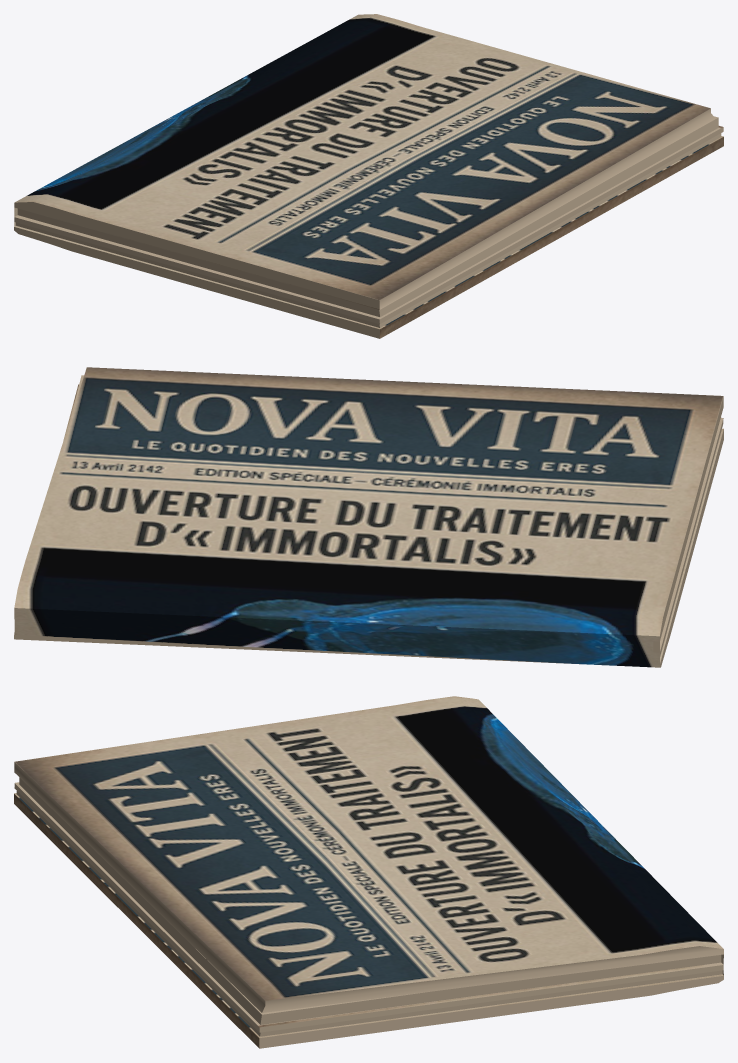
The model's file is Journal_lit.fbx.
3 renders of one model, top to bottom at view 1: azimuth 30°, elevation 25°; view 2: azimuth 150°, elevation 25°; view 3: azimuth 270°, elevation 25°, orthographic. The views are drawn at different scales.
Visible parts, largest first — view 1: journal_2; view 2: journal_2; view 3: journal_2.
Part boxes in pixels (<box>): journal_2: <box>14,14,723,338</box>; journal_2: <box>14,367,723,667</box>; journal_2: <box>14,696,723,1048</box>.
Size of the model in its own units: 0.4544 by 0.4157 by 0.0383.
